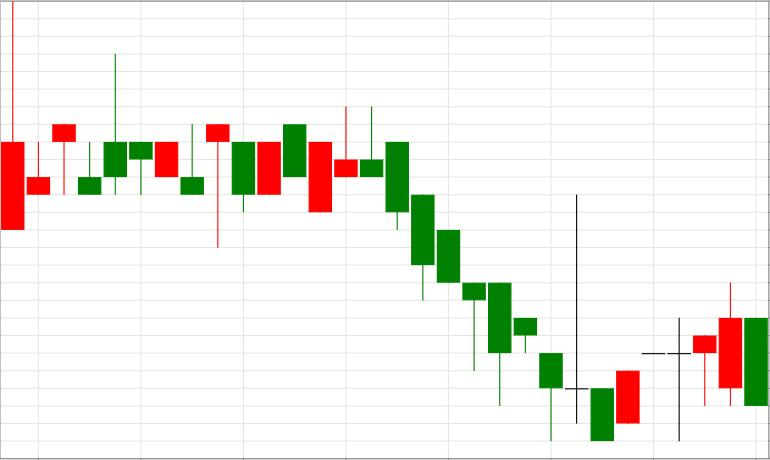hammer_rise: (360, 105, 563, 442)
